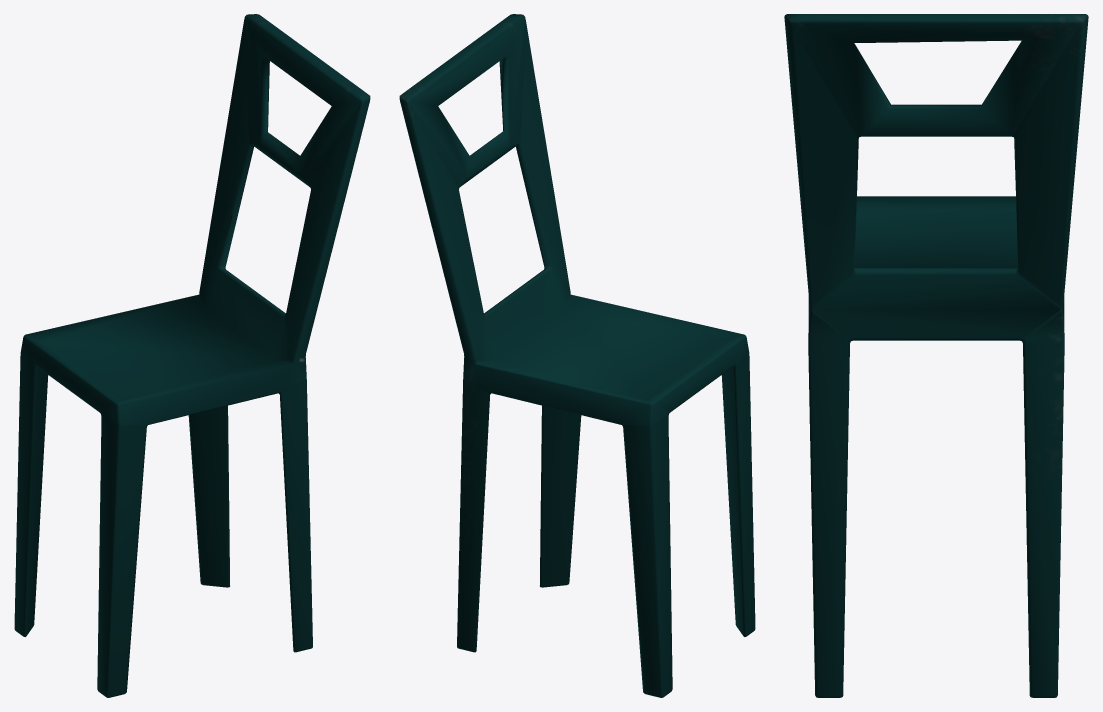
File: chair 1.fbx
3 views of the same model, side by side, from view 1: azimuth 30°, elevation 25°; view 2: azimuth 150°, elevation 25°; view 3: azimuth 270°, elevation 25° (orthographic). The views are drawn at different scales.
Visible parts, largest first — view 1: defaultMaterial.004; view 2: defaultMaterial.004; view 3: defaultMaterial.004.
Part boxes in pixels (box(x1,y1,x2,y2)): defaultMaterial.004: box(14, 14, 370, 697); defaultMaterial.004: box(399, 14, 755, 697); defaultMaterial.004: box(784, 14, 1088, 697).
Size of the model in its own units: 144 by 297 by 115.
